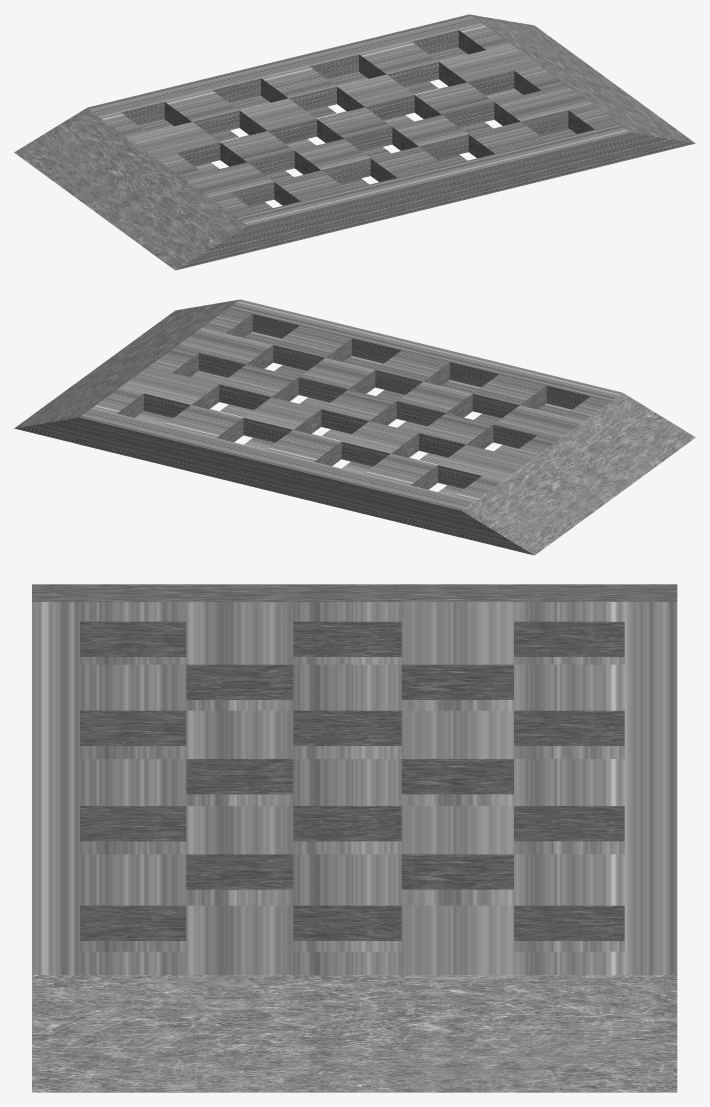
Rendered from grate.fbx.
3 views of the same model, one above another, from view 1: azimuth 30°, elevation 25°; view 2: azimuth 150°, elevation 25°; view 3: azimuth 270°, elevation 25° (orthographic). The views are drawn at different scales.
Visible parts, largest first — view 1: pCube1; view 2: pCube1; view 3: pCube1.
Part boxes in pixels (x1,y1,x2,y2): pCube1: (14, 14, 695, 270); pCube1: (14, 299, 695, 555); pCube1: (32, 584, 677, 1092).
Size of the model in its own units: 16.39 by 0.8102 by 8.8.
